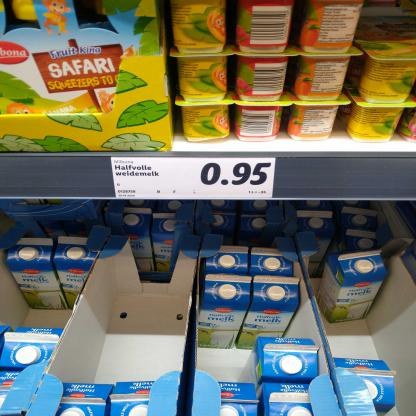prtg: (112, 158, 276, 199)
